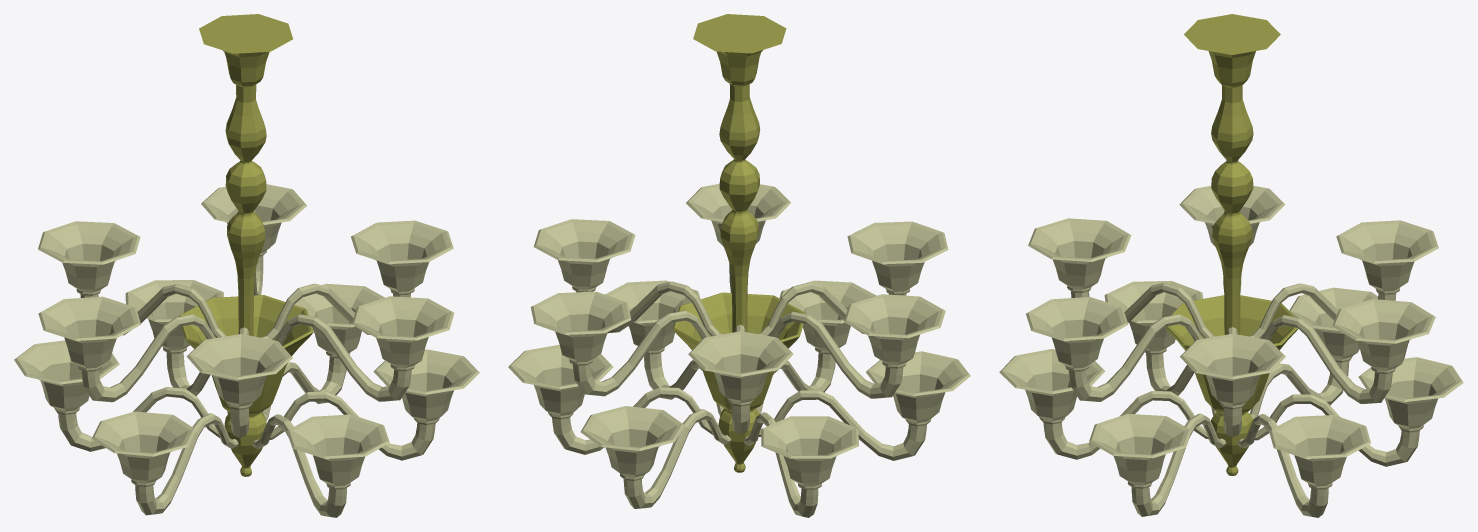
Rendered from chandelier2.fbx.
The picture shows the model from 3 angles, left to right: view 1: azimuth 30°, elevation 25°; view 2: azimuth 150°, elevation 25°; view 3: azimuth 270°, elevation 25°; orthographic projection.
Visible parts, largest first — view 1: nurbsToPoly1, pCylinder4, pCylinder2, pCylinder9, pCylinder8, pCylinder5, pCylinder7, pCylinder12, pCylinder3, pCylinder11, pCylinder13, pCylinder10 (+1 smaller); view 2: nurbsToPoly1, pCylinder6, pCylinder2, pCylinder10, pCylinder9, pCylinder11, pCylinder5, pCylinder3, pCylinder13, pCylinder7, pCylinder8, pCylinder12 (+1 smaller); view 3: nurbsToPoly1, pCylinder4, pCylinder6, pCylinder12, pCylinder13, pCylinder3, pCylinder7, pCylinder10, pCylinder8, pCylinder5, pCylinder11, pCylinder9 (+1 smaller).
Boxes of the visible parts, left/top/right/bottom form: nurbsToPoly1: left=178, top=14, right=313, bottom=476; pCylinder4: left=275, top=296, right=454, bottom=401; pCylinder2: left=38, top=296, right=215, bottom=402; pCylinder9: left=92, top=411, right=238, bottom=515; pCylinder8: left=252, top=414, right=389, bottom=517; pCylinder5: left=261, top=220, right=453, bottom=339; pCylinder7: left=38, top=221, right=226, bottom=337; pCylinder12: left=269, top=349, right=479, bottom=460; pCylinder3: left=187, top=327, right=292, bottom=437; pCylinder11: left=14, top=340, right=219, bottom=451; pCylinder13: left=262, top=283, right=384, bottom=420; pCylinder10: left=125, top=280, right=229, bottom=413; nurbsToPoly1: left=672, top=14, right=806, bottom=472; pCylinder6: left=530, top=291, right=709, bottom=396; pCylinder2: left=769, top=294, right=945, bottom=398; pCylinder10: left=580, top=406, right=731, bottom=508; pCylinder9: left=758, top=351, right=970, bottom=460; pCylinder11: left=743, top=412, right=858, bottom=517; pCylinder5: left=533, top=219, right=722, bottom=336; pCylinder3: left=758, top=221, right=948, bottom=335; pCylinder13: left=508, top=344, right=712, bottom=454; pCylinder7: left=688, top=324, right=793, bottom=434; pCylinder8: left=756, top=280, right=876, bottom=414; pCylinder12: left=605, top=280, right=723, bottom=416; nurbsToPoly1: left=1165, top=14, right=1297, bottom=475; pCylinder4: left=1026, top=297, right=1202, bottom=401; pCylinder6: left=1261, top=299, right=1435, bottom=403; pCylinder12: left=1089, top=413, right=1226, bottom=516; pCylinder13: left=1237, top=414, right=1370, bottom=517; pCylinder3: left=1028, top=218, right=1216, bottom=338; pCylinder7: left=1249, top=220, right=1438, bottom=338; pCylinder10: left=1254, top=357, right=1463, bottom=466; pCylinder8: left=999, top=349, right=1208, bottom=459; pCylinder5: left=1180, top=327, right=1285, bottom=437; pCylinder11: left=1249, top=287, right=1377, bottom=418; pCylinder9: left=1104, top=281, right=1216, bottom=415.
Bounding box in the file's own units: 83.82 × 87.55 × 83.52.
